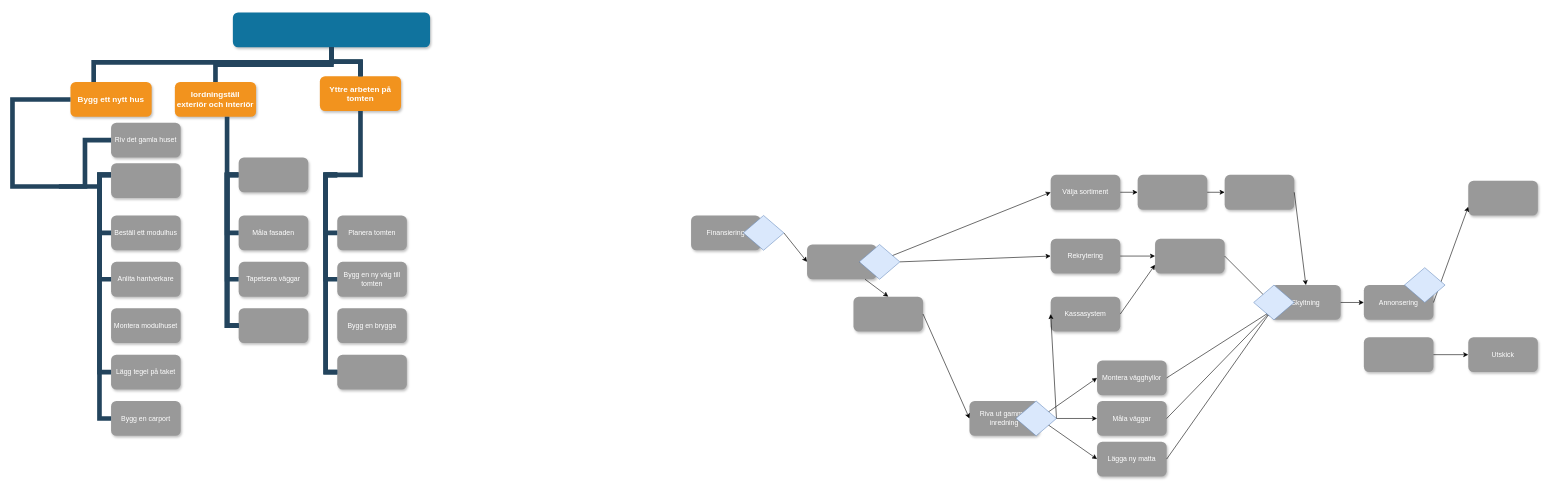
The diagram is 1551 pixels wide and 490 high, and some of its shapes have lost their labels. Each missing label, with the centre of its shape:
"Anlita byggfirma" goes at [888,314].
"Anlägg en gångstig till bryggan" goes at [372,372].
"Anslut vatten och el" goes at [273,326].
"Beställa skor" goes at [1259,192].
"Förstärk befintlig grund" goes at [146,181].
"Invigning" goes at [1503,198].
"Kontraktskrivning" goes at [842,262].
"Måla innertak och snickerier" goes at [273,175].
"Sommarstugan" goes at [331,30].
"Trycka reklamblad" goes at [1399,355].
"Utbildning" goes at [1190,256].
"Välja leverantör" goes at [1172,192].
